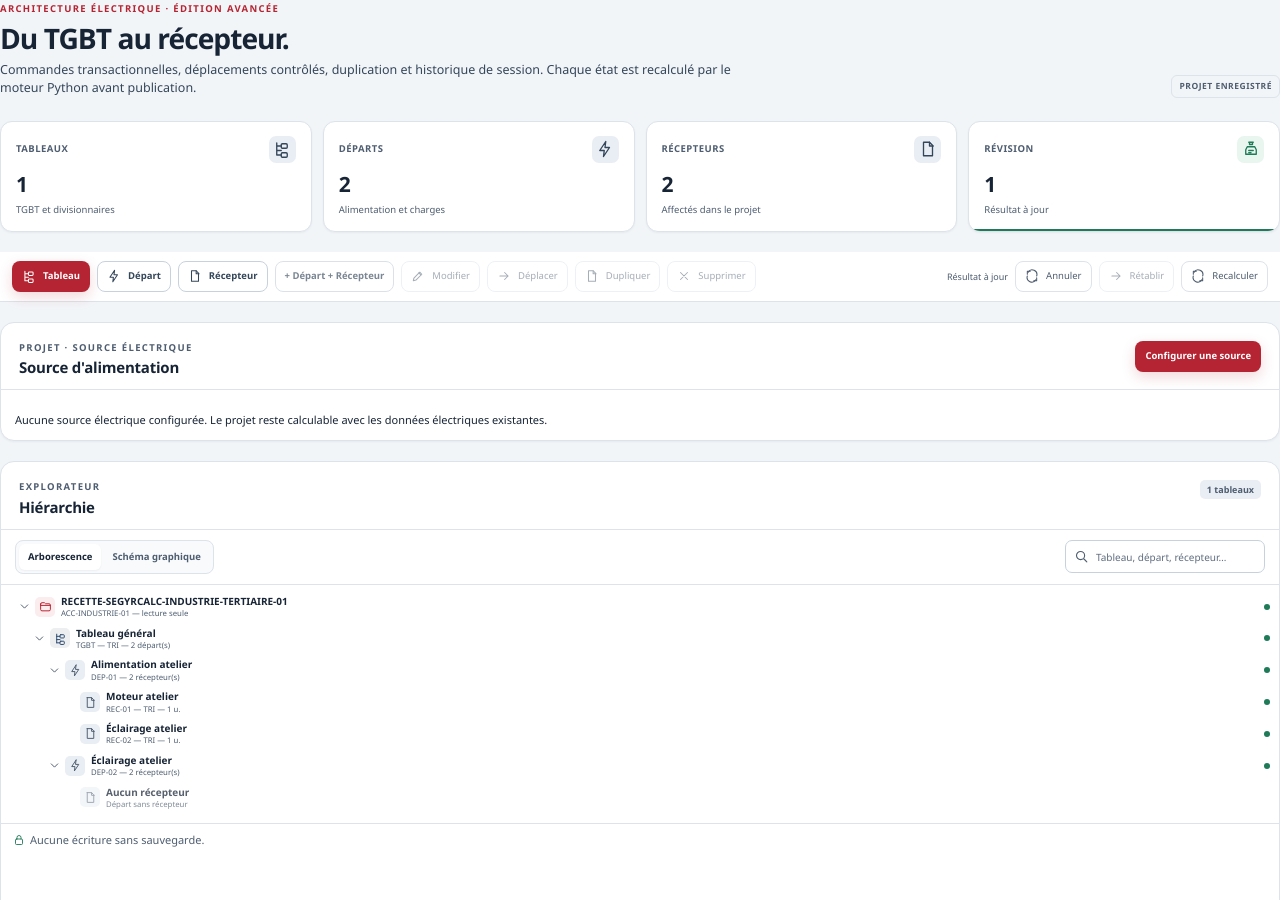
Scenario: intégration architecture / schéma › bascule vers le schéma sans remplacer l'inspecteur
Click the button with test id "tree-board-TGBT-01": (116, 633) left=50, top=623, right=1274, bottom=654
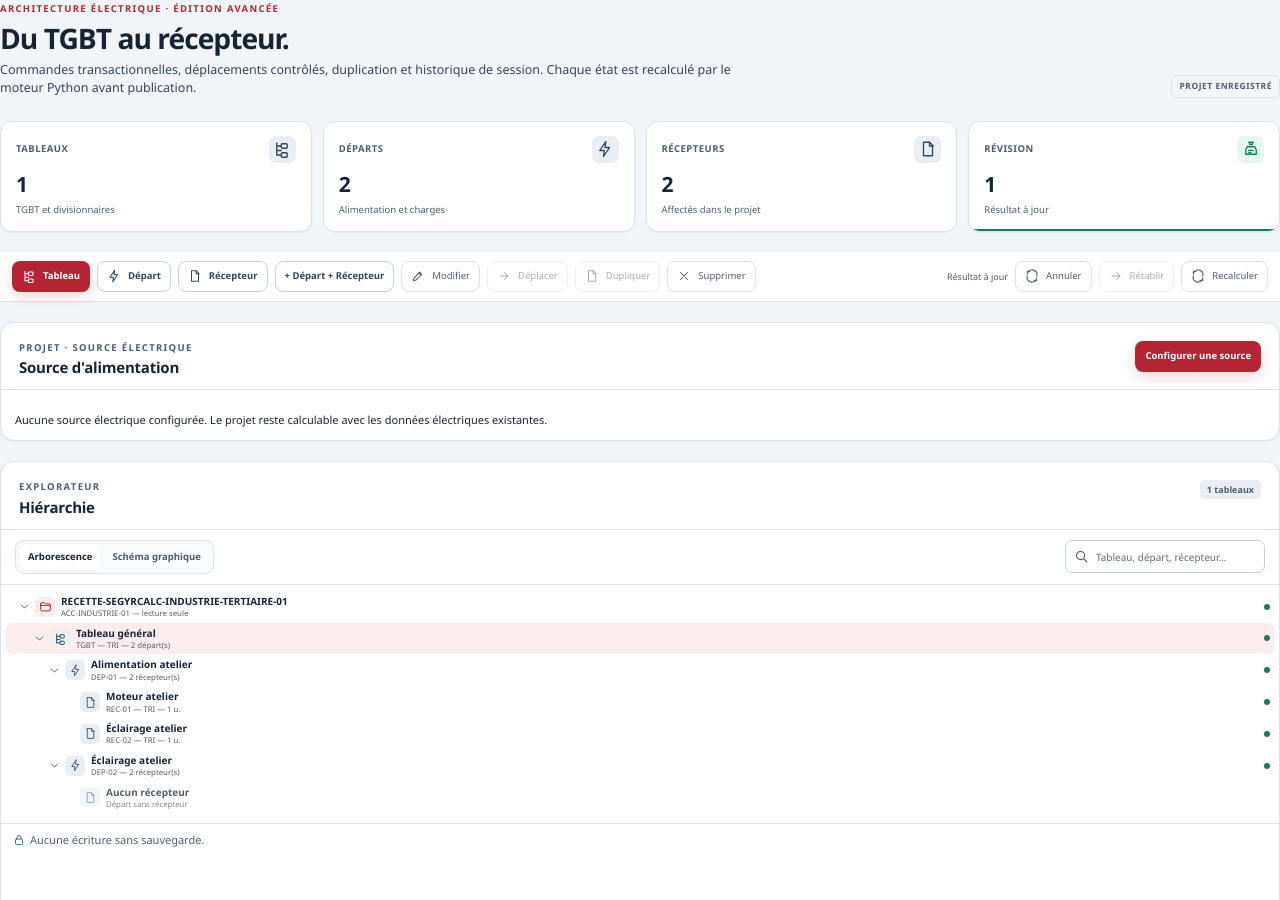
Click the tab with test id "architecture-view-graph": (157, 557) left=104, top=544, right=210, bottom=570
(page scrolled)
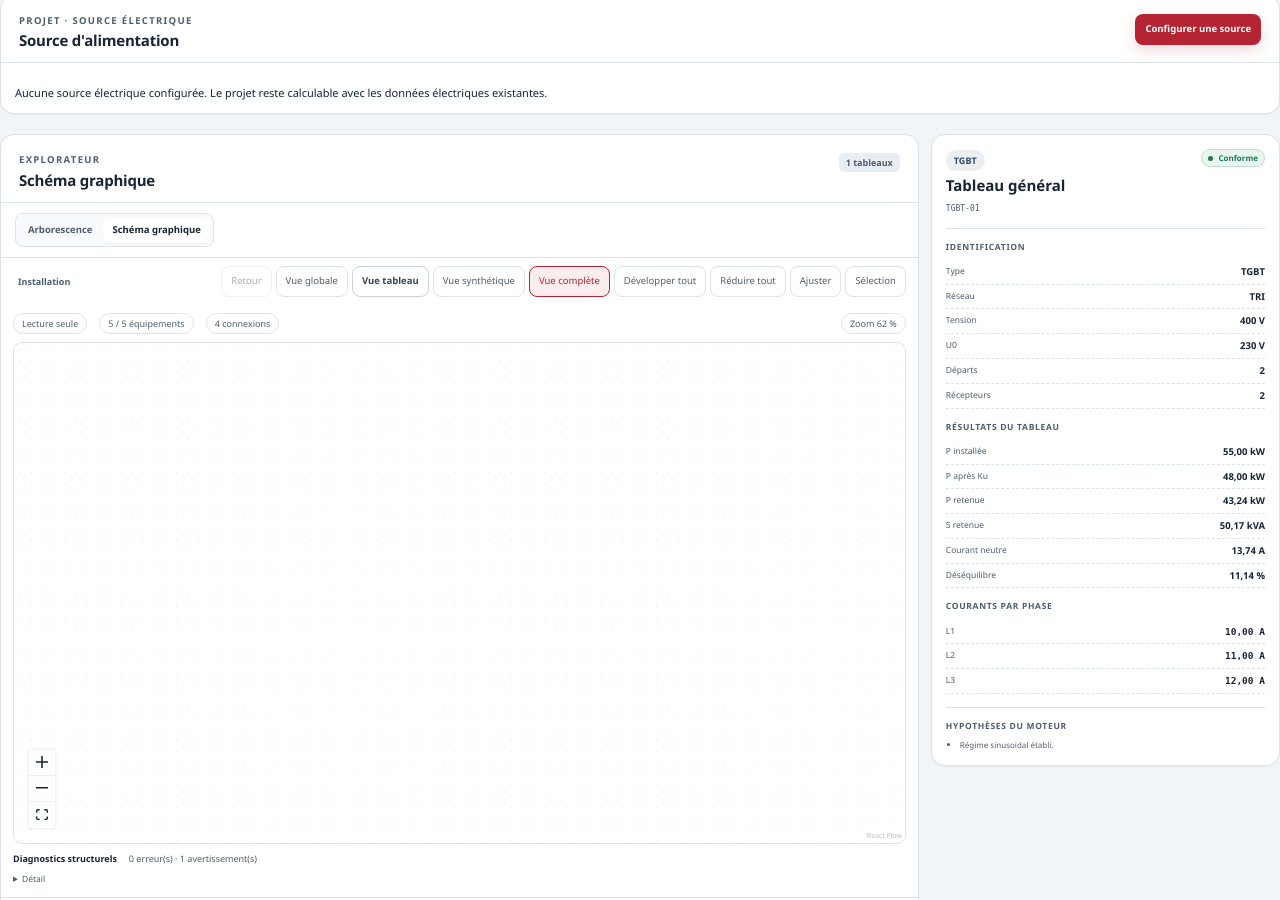
Expected: the element with test id "property-panel" is shown, left=932, top=135, right=1279, bottom=765
Expected: the element with test id "electrical-graph-view" is shown, left=1, top=258, right=918, bottom=897
